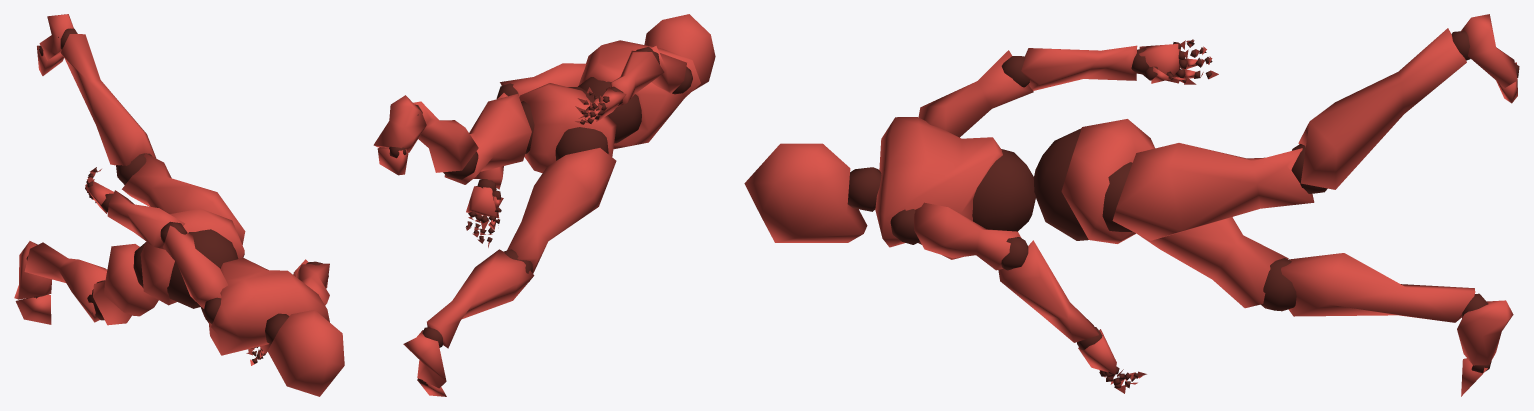
3 renders of one model, left to right at view 1: azimuth 30°, elevation 25°; view 2: azimuth 150°, elevation 25°; view 3: azimuth 270°, elevation 25°, orthographic. The views are drawn at different scales.
Visible parts, largest first — view 1: Beta_Surface, Beta_Joints; view 2: Beta_Surface, Beta_Joints; view 3: Beta_Surface, Beta_Joints.
Boxes of the visible parts, <box> form: Beta_Surface: <box>14,14,344,396</box>; Beta_Joints: <box>26,28,328,363</box>; Beta_Surface: <box>373,14,715,396</box>; Beta_Joints: <box>389,46,692,386</box>; Beta_Surface: <box>744,14,1517,396</box>; Beta_Joints: <box>847,31,1519,388</box>.
Size of the model in its own units: 0.6134 by 0.9777 by 1.75.
